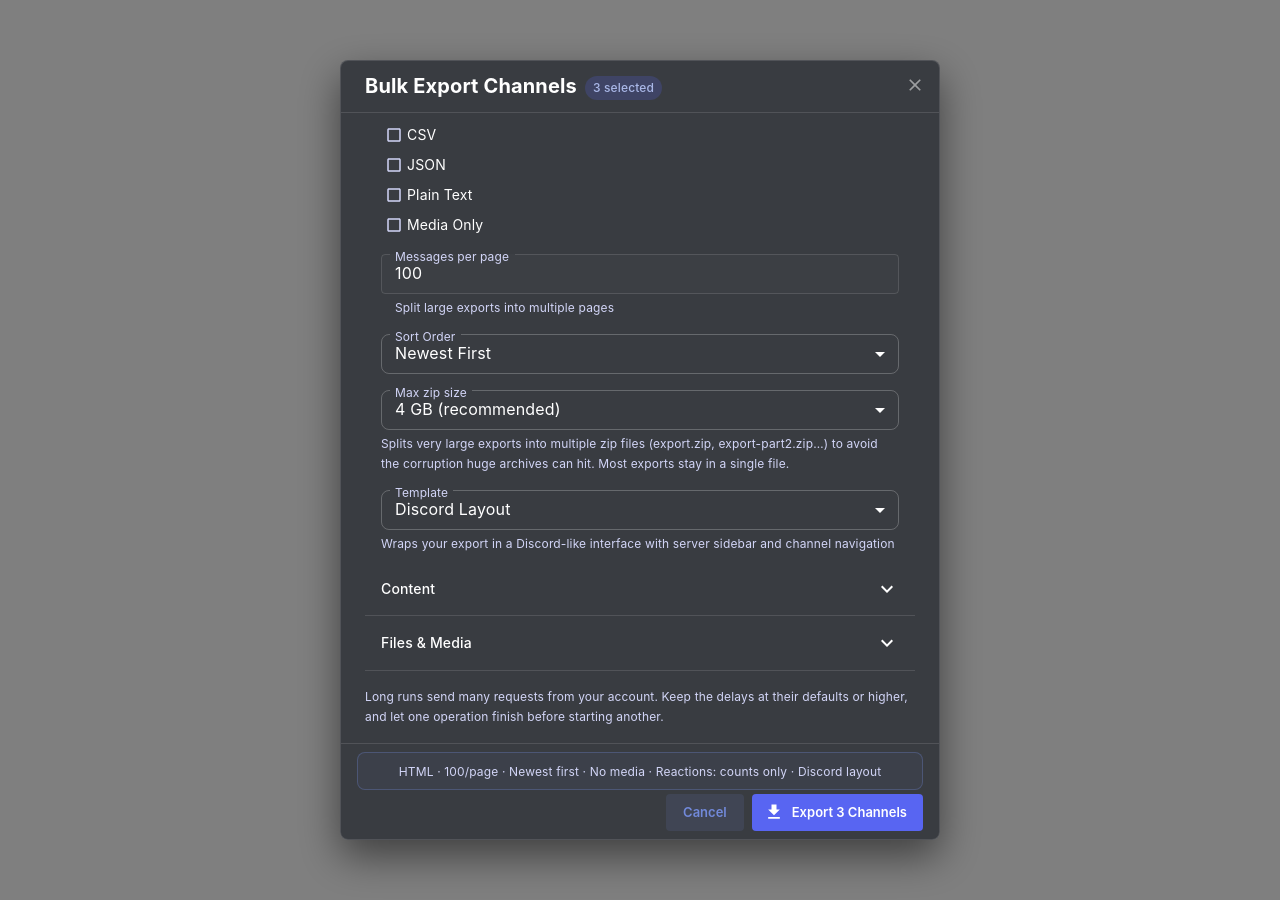
BulkExportDialog › Media settings restore › should restore includeMedia from settings when switching away from Media Only
(page scrolled)
# Expand Media accordion
Click the button "Files & Media". click: click(426, 643)
box: [365,616,915,672]
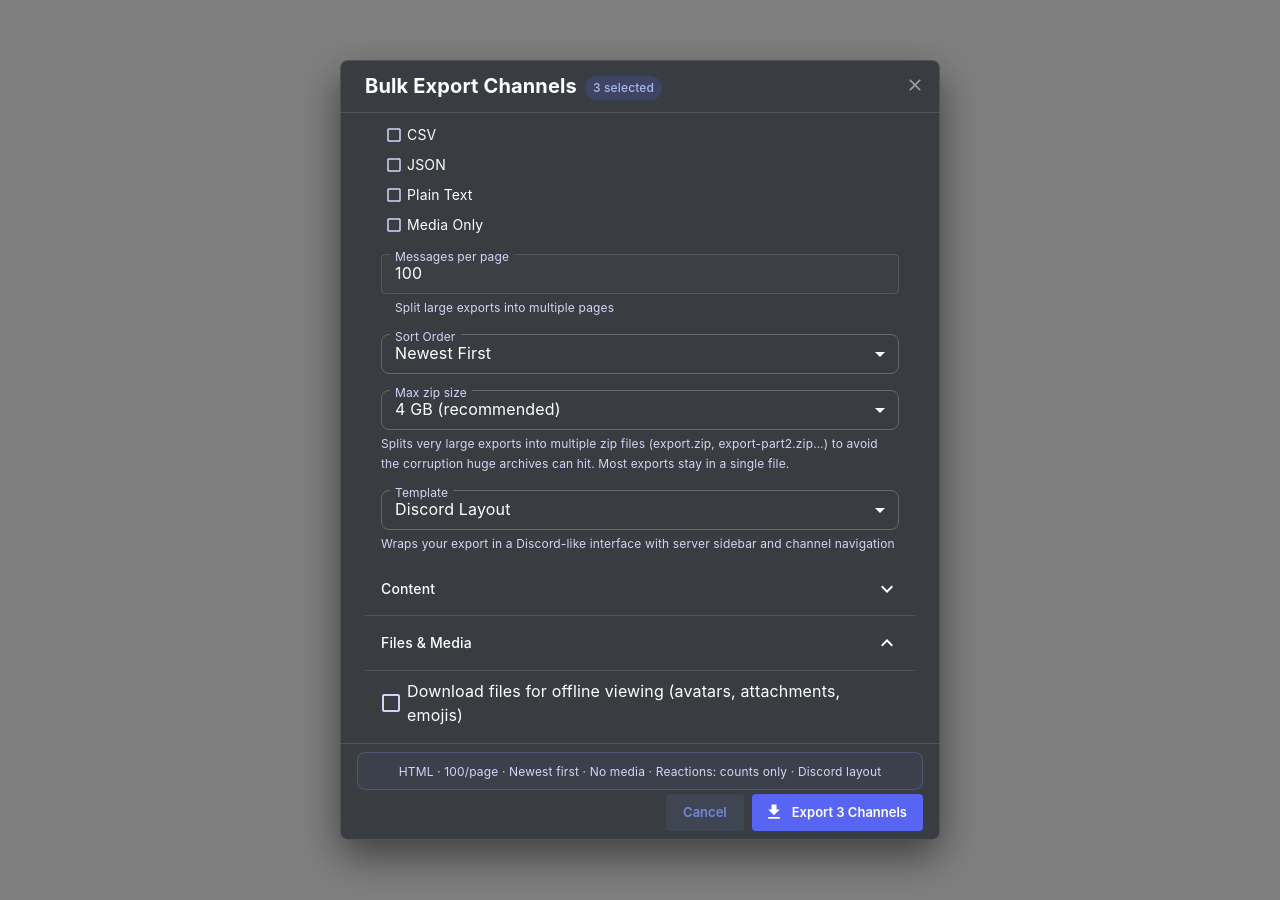
Now the checkbox labelled "Download files for offline viewing (avatars, attachments, emojis)" is not checked, box [375,680,883,728]
# Switch to Media Only — checkbox forced checked
Click the text "Media Only". click: click(445, 225)
box: [407,215,483,235]
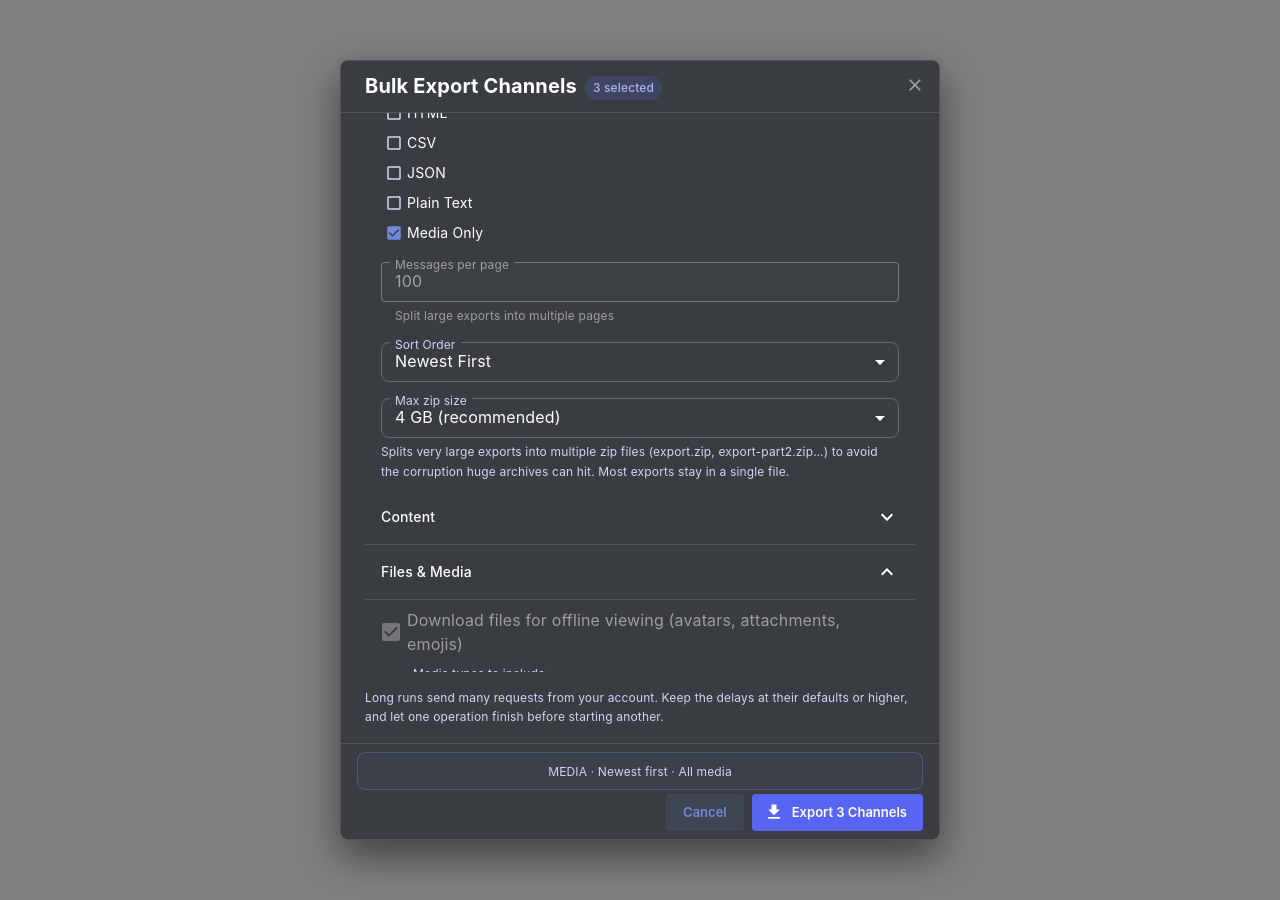
Now the checkbox labelled "Download files for offline viewing (avatars, attachments, emojis)" is checked, box [375,608,883,656]
# Switch back to HTML — should restore to false from settings
Click the text "HTML". click: click(427, 113)
box: [407,103,448,123]
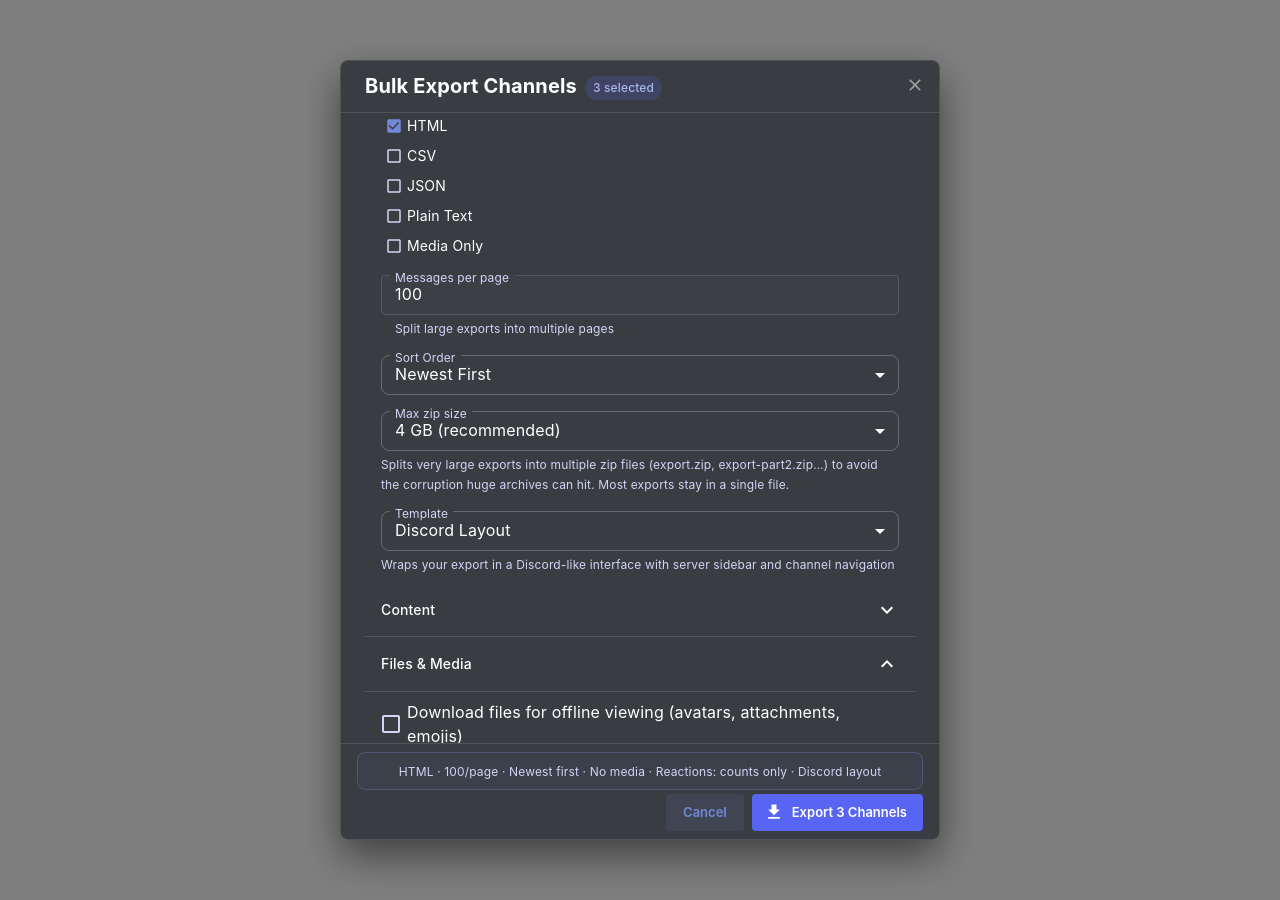
Now the checkbox labelled "Download files for offline viewing (avatars, attachments, emojis)" is not checked, box [375,700,883,743]
